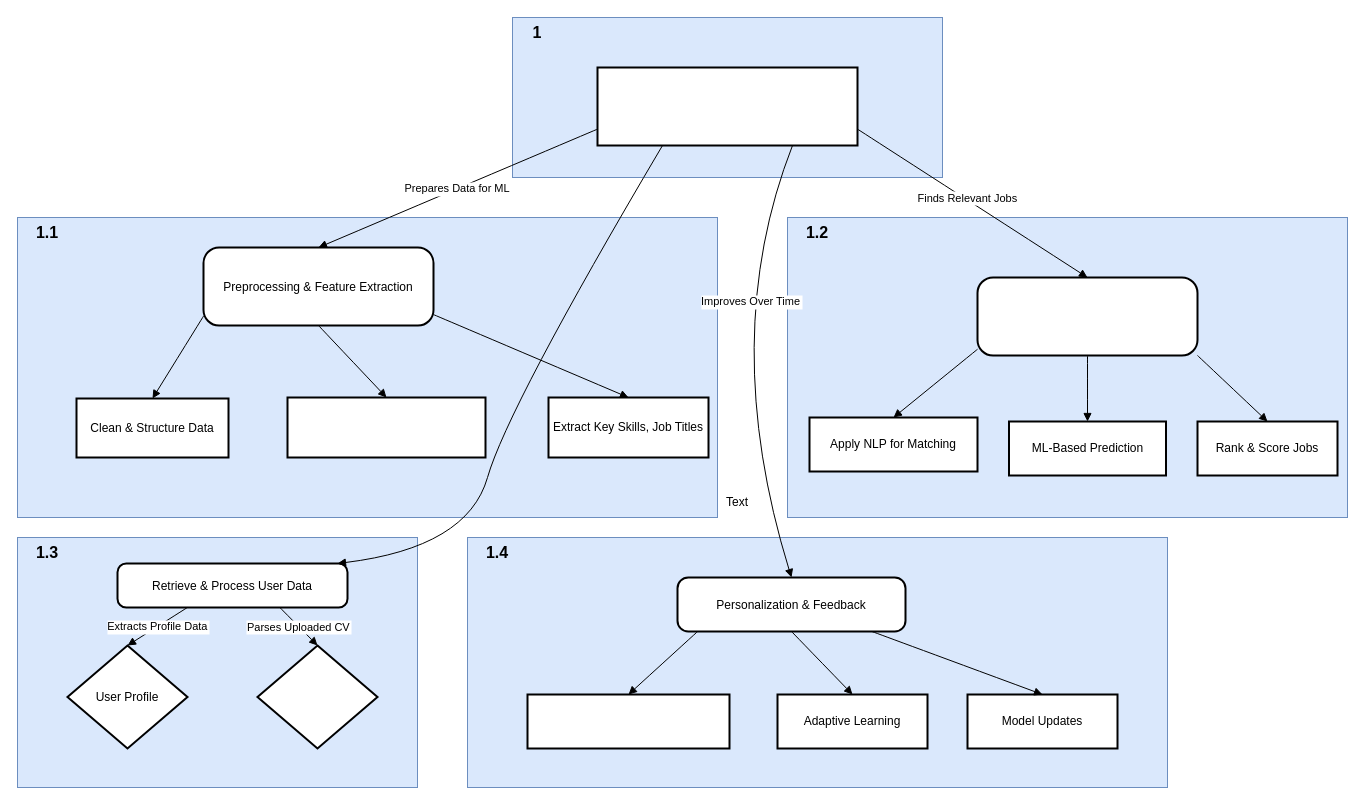
The diagram is 1365 pixels wide and 805 high, and some of its shapes have lost their labels. The centre of each missing label's shape, as x and y in pixels:
"CV Parsing" goes at pixel 317 696.
"Generate Word Embeddings" goes at pixel 386 427.
"Job Matching & Recommendation" goes at pixel 1087 316.
"Job Recommendation System" goes at pixel 727 106.
"User Feedback Collection" goes at pixel 628 721.
